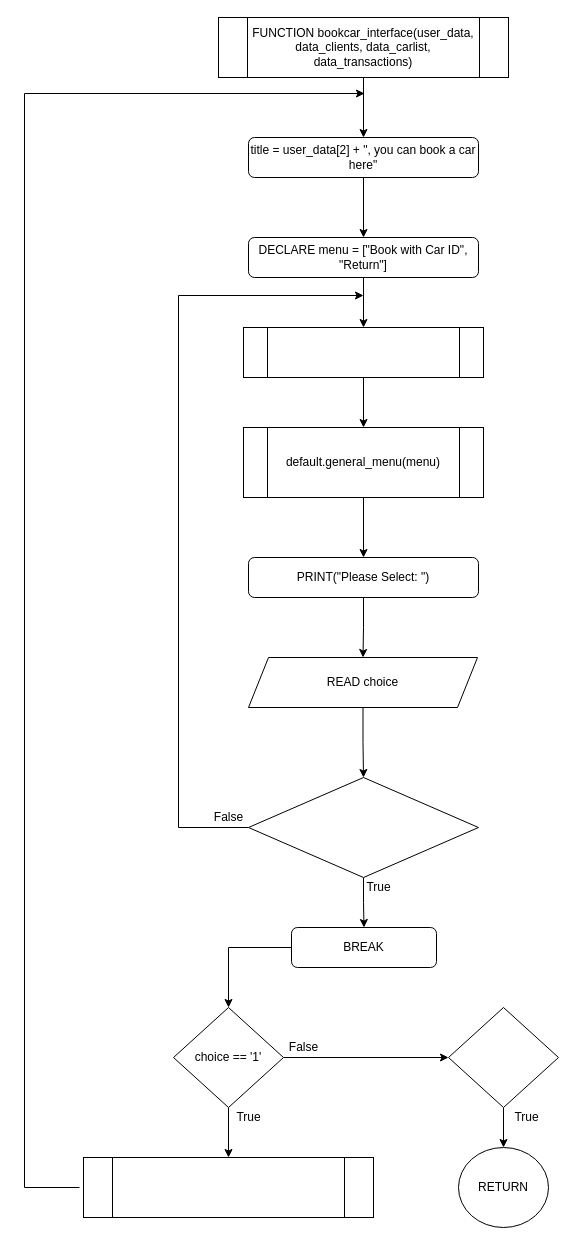
The diagram is 576 pixels wide and 1245 high, and some of its shapes have lost their labels. Here are the shapes that lost their labels. From the top down, the centre of each, then its label:
At pixel 363 352: "default.print_title(title)".
At pixel 363 827: "choice == '1' OR choice == '2'".
At pixel 503 1057: "choice == '2'".
At pixel 228 1187: "bookcar_menu(user_data, data_clients, data_carlist, data_transactions)".
